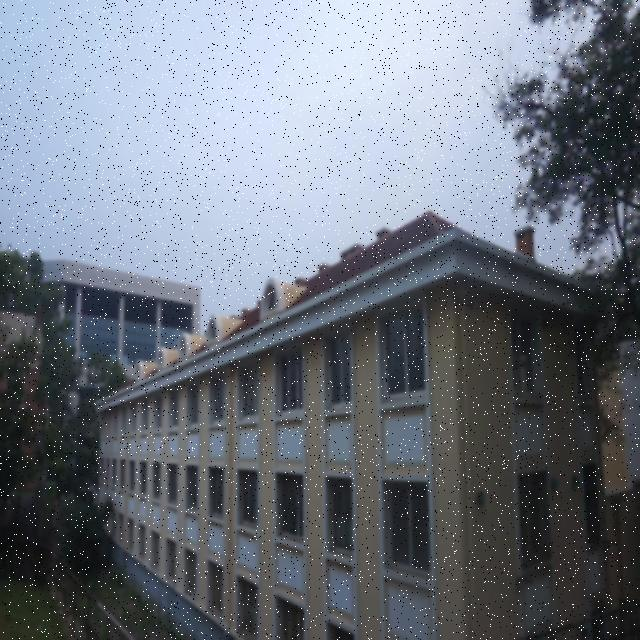UAV: (88, 383, 102, 393)
